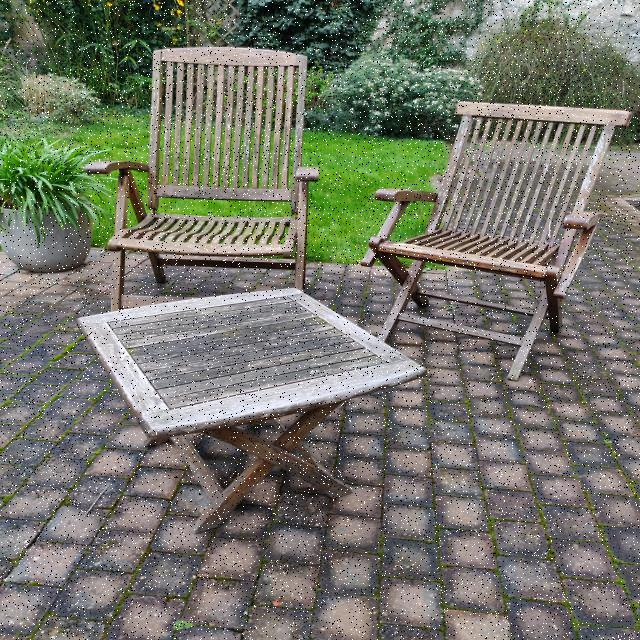mobile-phone: (63, 282, 428, 548)
